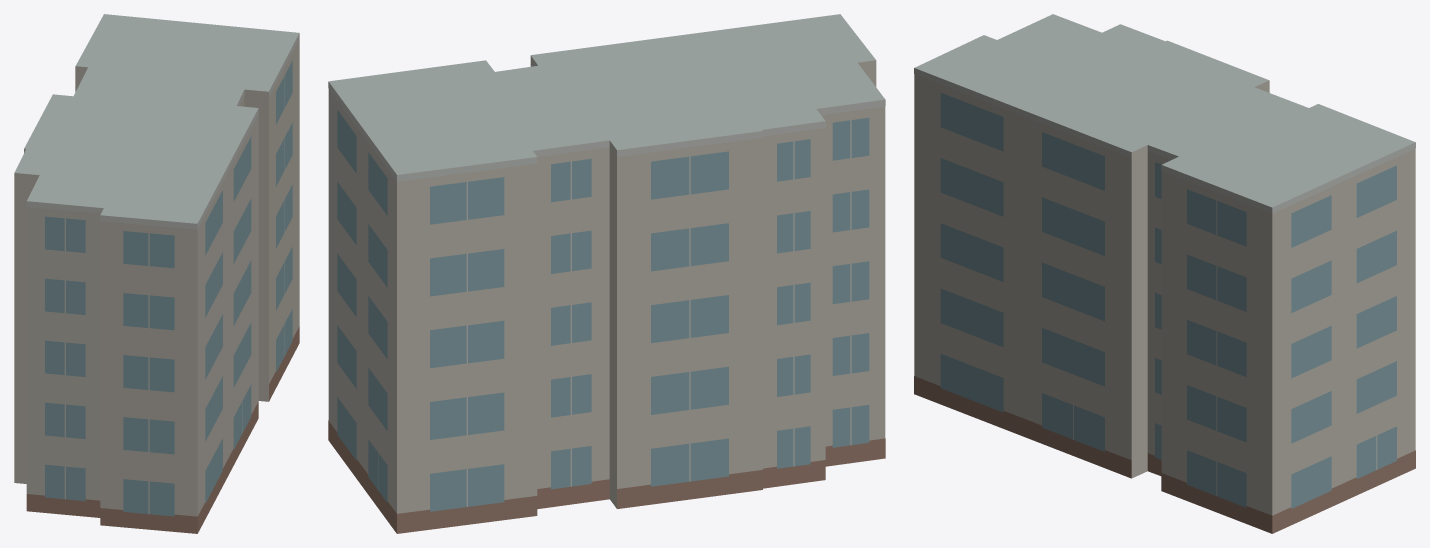
File: survey-upis-32913334.glb
3 renders of one model, left to right at view 1: azimuth 30°, elevation 25°; view 2: azimuth 150°, elevation 25°; view 3: azimuth 270°, elevation 25°, orthographic. The views are drawn at different scales.
Parts seen in each view (by area): view 1: survey-upis-32913334.tmp; view 2: survey-upis-32913334.tmp; view 3: survey-upis-32913334.tmp.
Boxes of the visible parts, x1,y1,x2,y2 form: survey-upis-32913334.tmp: (14, 14, 299, 533); survey-upis-32913334.tmp: (328, 14, 885, 533); survey-upis-32913334.tmp: (914, 14, 1415, 533).
Size of the model in its own units: 16.55 by 13 by 18.12.
